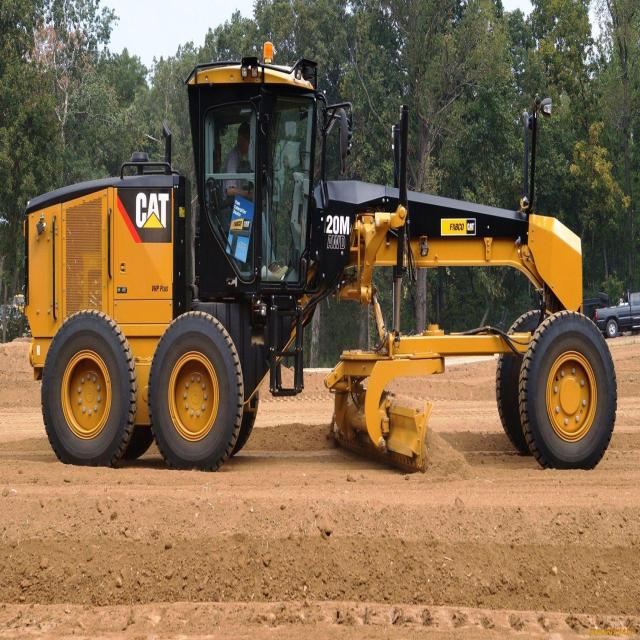buldozerpayloadergrader: (15, 43, 618, 475)
